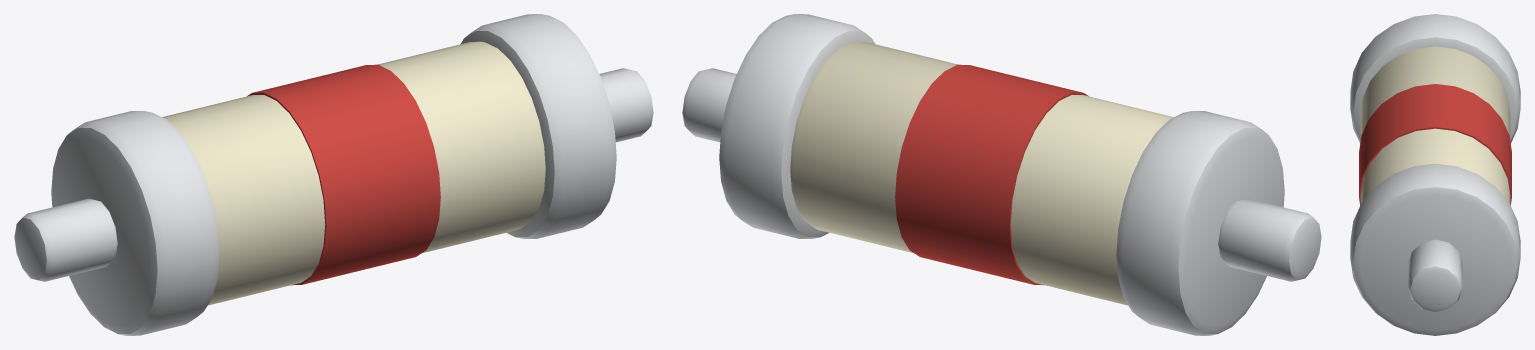
The model's file is Fuse.fbx.
3 renders of one model, left to right at view 1: azimuth 30°, elevation 25°; view 2: azimuth 150°, elevation 25°; view 3: azimuth 270°, elevation 25°, orthographic. The views are drawn at different scales.
Visible parts, largest first — view 1: Fuse; view 2: Fuse; view 3: Fuse.
Boxes of the visible parts, x1,y1,x2,y2 form: Fuse: (14,14,653,335); Fuse: (682,14,1321,335); Fuse: (1350,14,1520,335).
Bounding box in the file's own units: 0.16 × 0.05 × 0.05.
